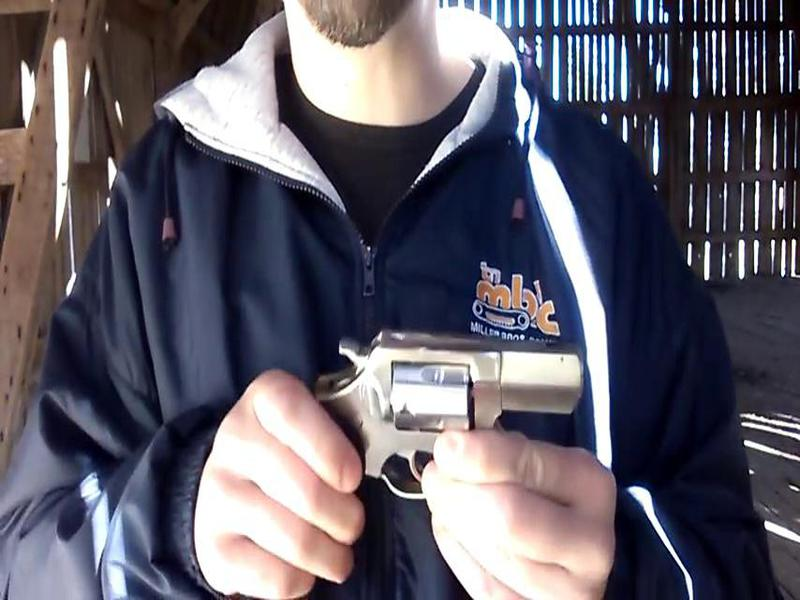Revolver: (297, 304, 612, 508)
